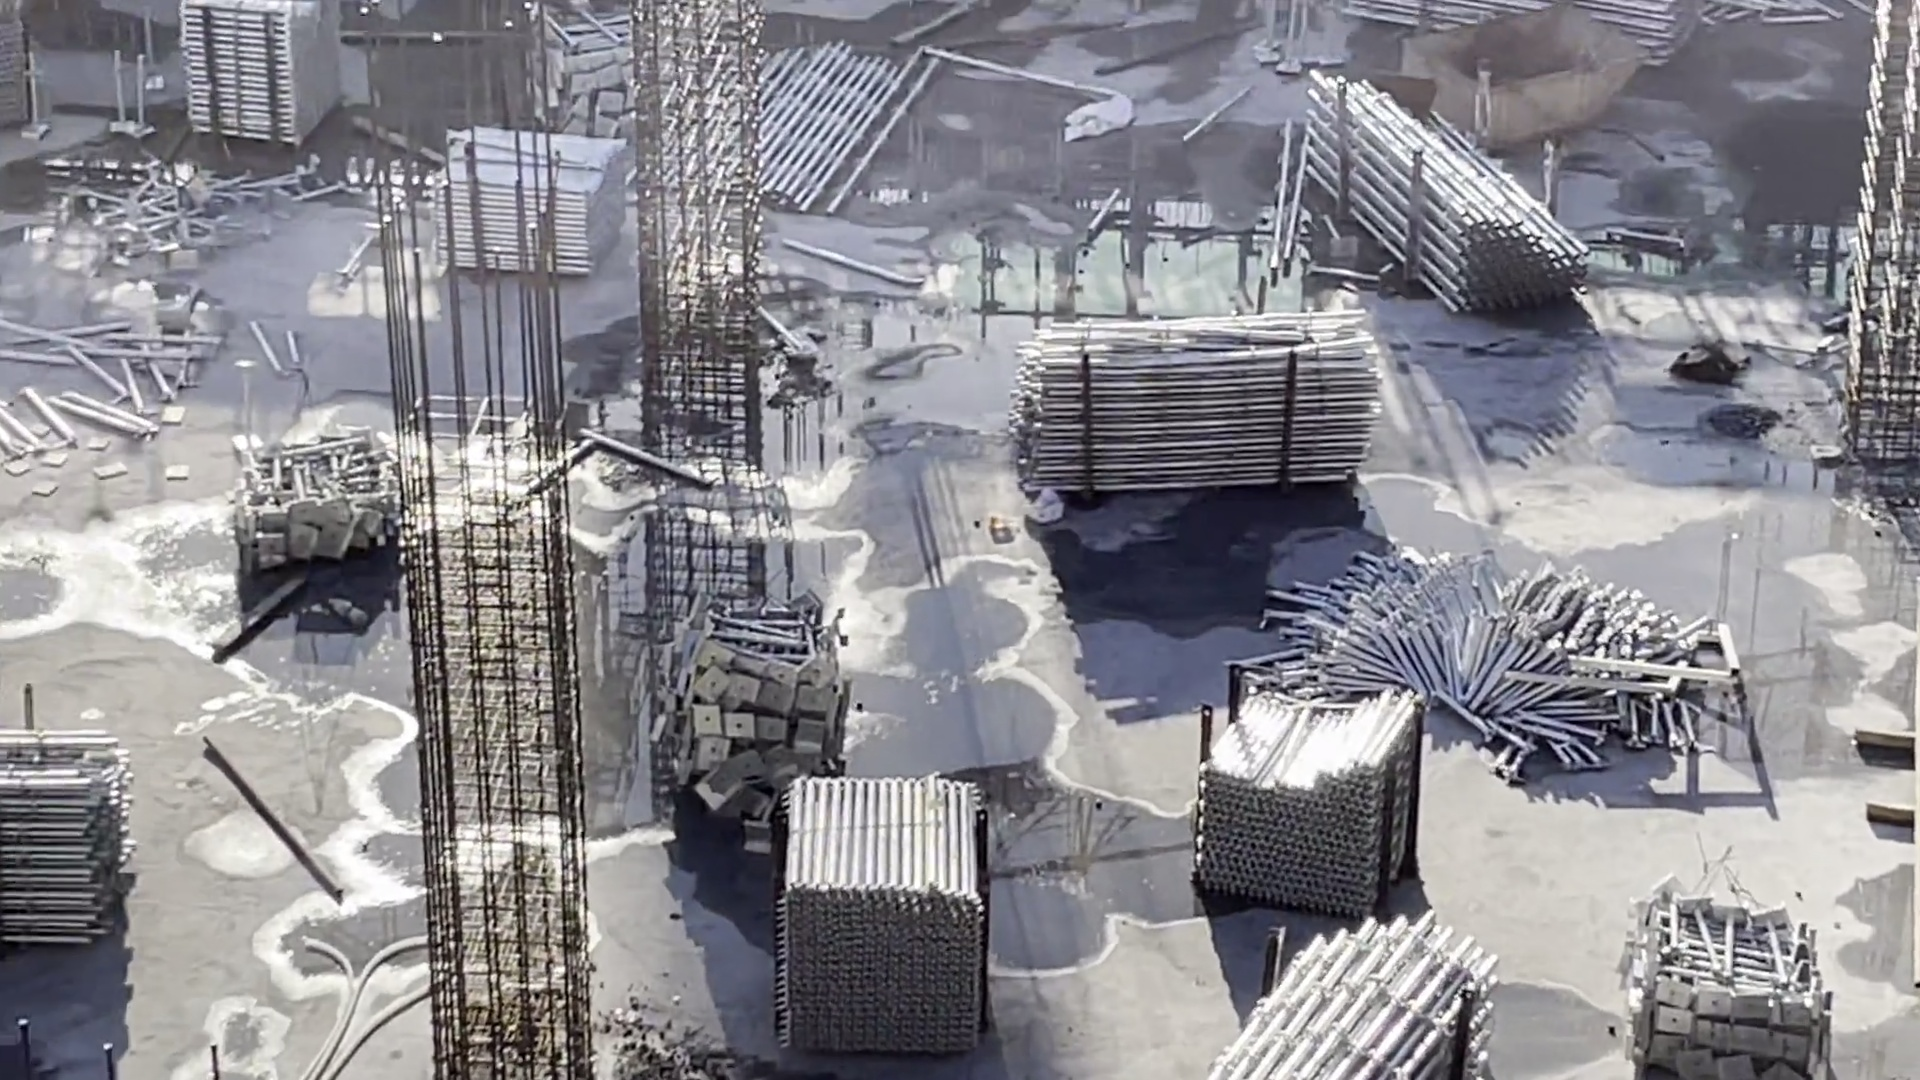hopper: (1399, 7, 1648, 149)
scaffold: (1263, 547, 1712, 773), (1004, 305, 1371, 504), (767, 750, 1006, 1056), (1316, 69, 1585, 318), (1192, 688, 1439, 928), (1205, 909, 1502, 1080), (649, 607, 856, 837), (1621, 876, 1828, 1080), (727, 37, 930, 214), (1, 727, 152, 960), (430, 123, 625, 287), (223, 430, 409, 576), (193, 1, 367, 152), (1335, 1, 1718, 61), (520, 16, 680, 146), (100, 178, 272, 265)
